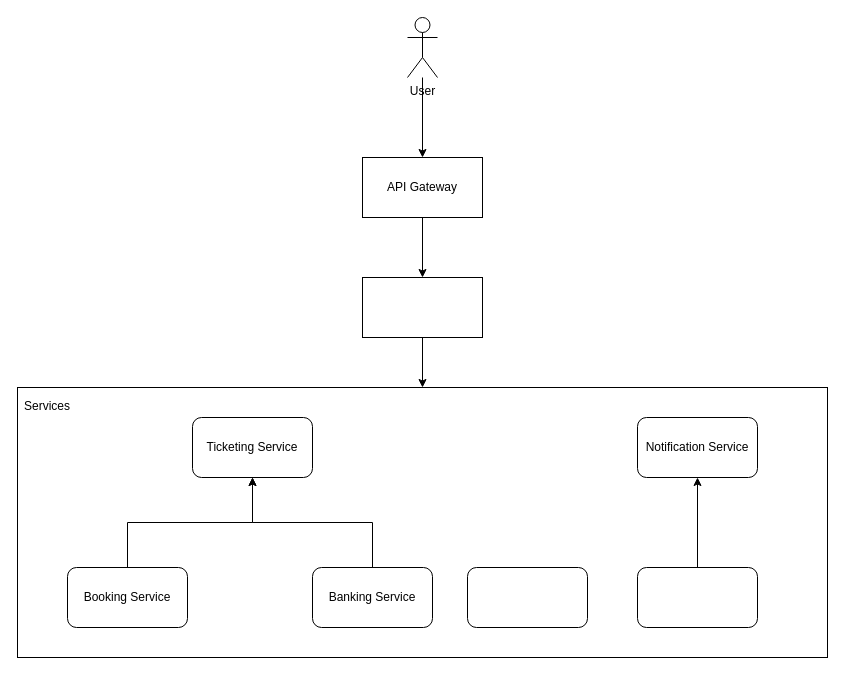
Some shapes in this 845 by 675 pixel diagram are drawn without their labels. The centre of each missing label's shape, as x and y in pixels:
"Orchestrator" belongs at pixel 422 307.
"Tracking Service" belongs at pixel 697 597.
"Train Search Service" belongs at pixel 527 597.
